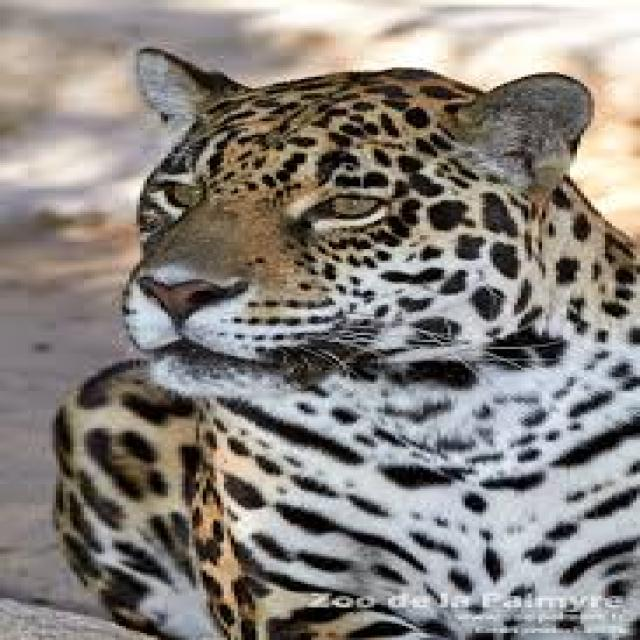Jaguar: (49, 46, 640, 640)
